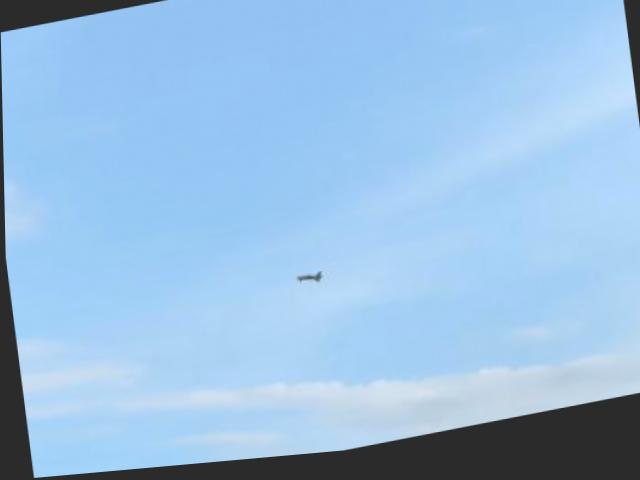uav: (293, 272, 322, 294)
